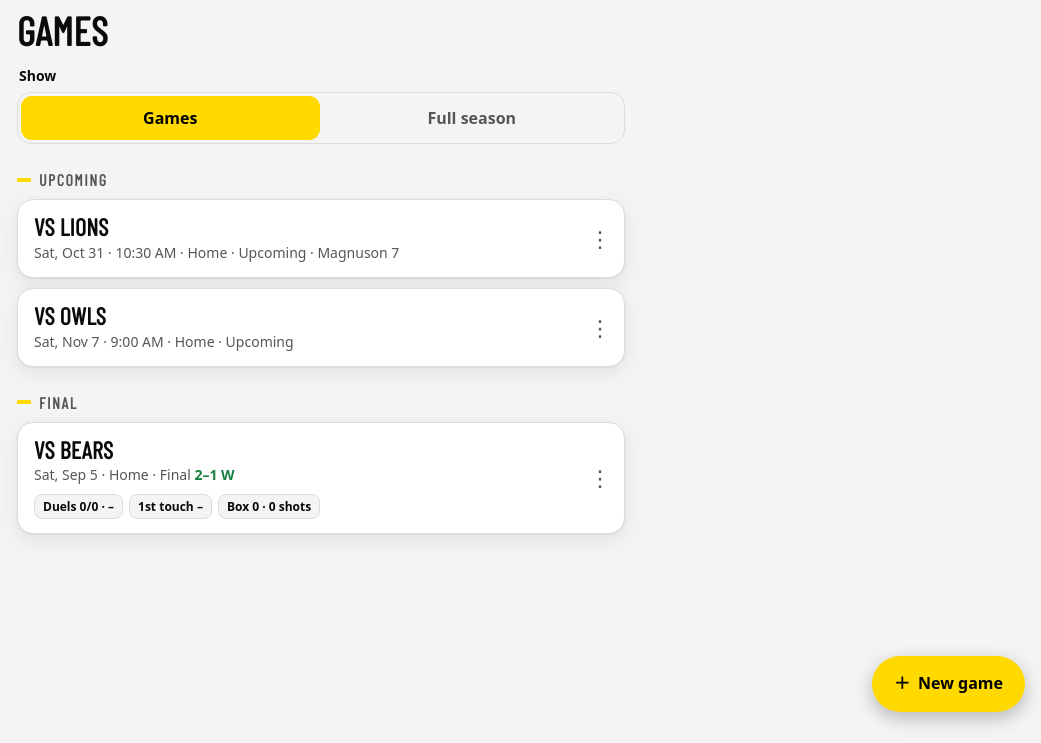
Test: games list: full season › shows every game in date order by month, with the record, and marks the next game
Expected: the text "vs Owls" is shown, [34,301,106,330]
Step 1. Click the radio button labelled "Full season" → (472, 118), box [427,107,516,129]
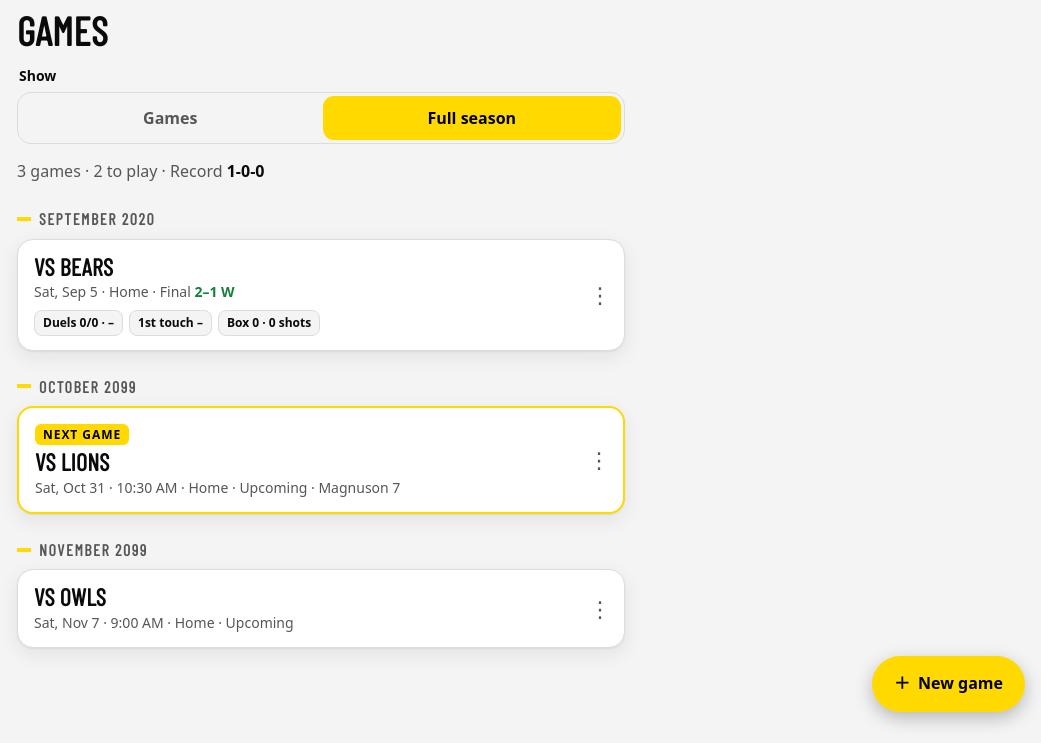
Now the text "3 games · 2 to play · Record 1-0-0" is shown, box [17,160,264,182]
Now the list item "Next game" shows "Lions", box [19,408,575,512]
Now the list item "Next game" shows "Magnuson 7", box [19,408,575,512]
